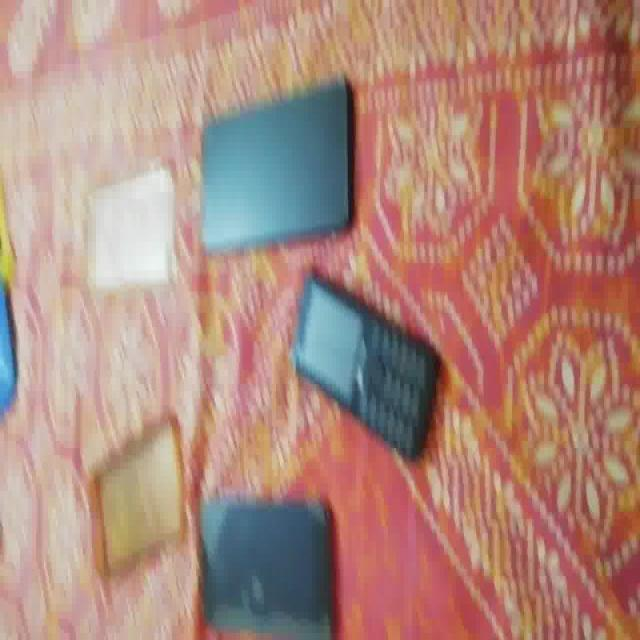phone: (291, 273, 444, 461), (200, 77, 355, 236), (198, 493, 334, 633)
